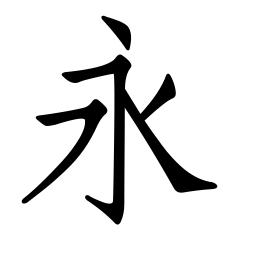D: (96, 12, 133, 51)
HSZ: (101, 53, 136, 84)
Hs: (60, 62, 97, 87)
Ne: (164, 160, 220, 196)
PNc: (129, 103, 156, 136)
PZe: (19, 182, 46, 207)
Ps: (158, 72, 181, 100)
SG: (83, 187, 127, 226)
Sm: (110, 140, 127, 164)
TPZ: (75, 97, 108, 135)
Ts: (34, 111, 60, 130)
